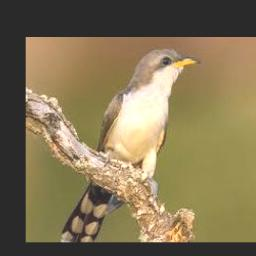Cuckoo: (59, 49, 201, 242)
